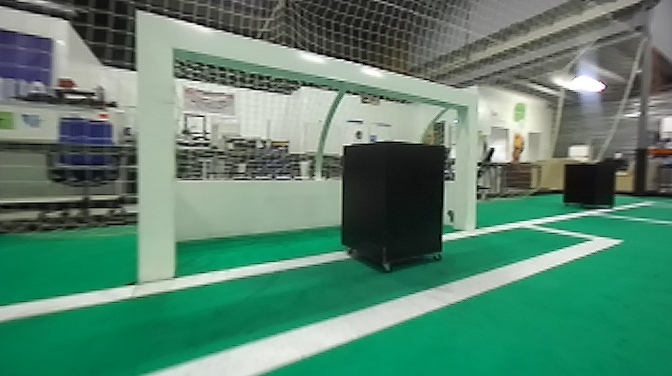goalpost: (137, 10, 177, 288), (455, 96, 480, 229)
